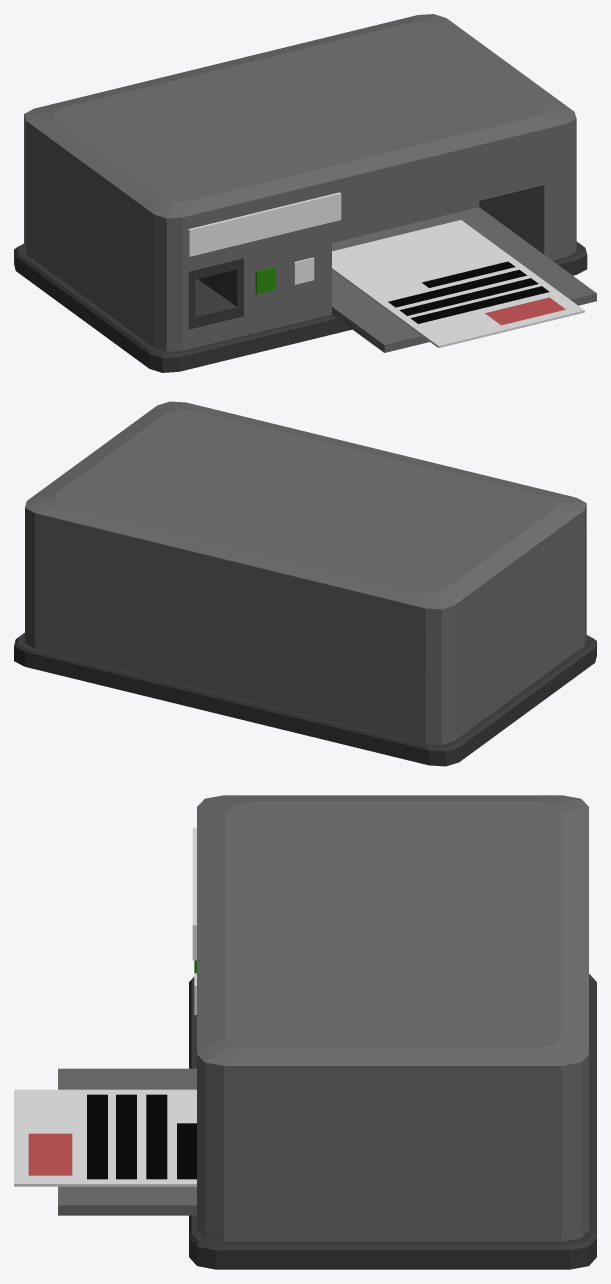
The model's file is H_Printer.fbx.
3 views of the same model, one above another, from view 1: azimuth 30°, elevation 25°; view 2: azimuth 150°, elevation 25°; view 3: azimuth 270°, elevation 25° (orthographic). The views are drawn at different scales.
Parts seen in each view (by area): view 1: H_Printer; view 2: H_Printer; view 3: H_Printer.
Part boxes in pixels (box(x1,y1,x2,y2)): H_Printer: box(14, 14, 596, 372); H_Printer: box(14, 401, 596, 766); H_Printer: box(14, 795, 596, 1269).
Size of the model in its own units: 369 by 324 by 125.
